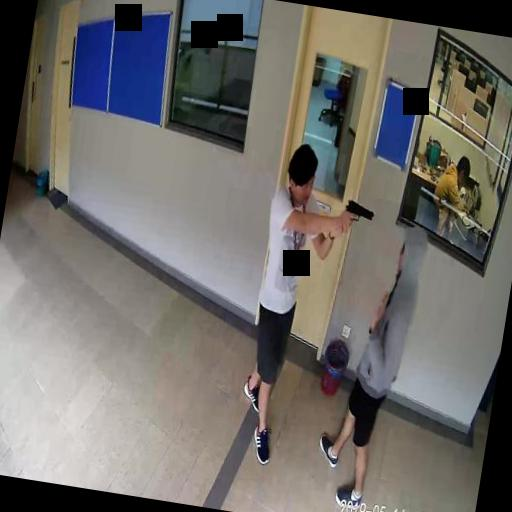Handgun: (341, 198, 374, 234)
